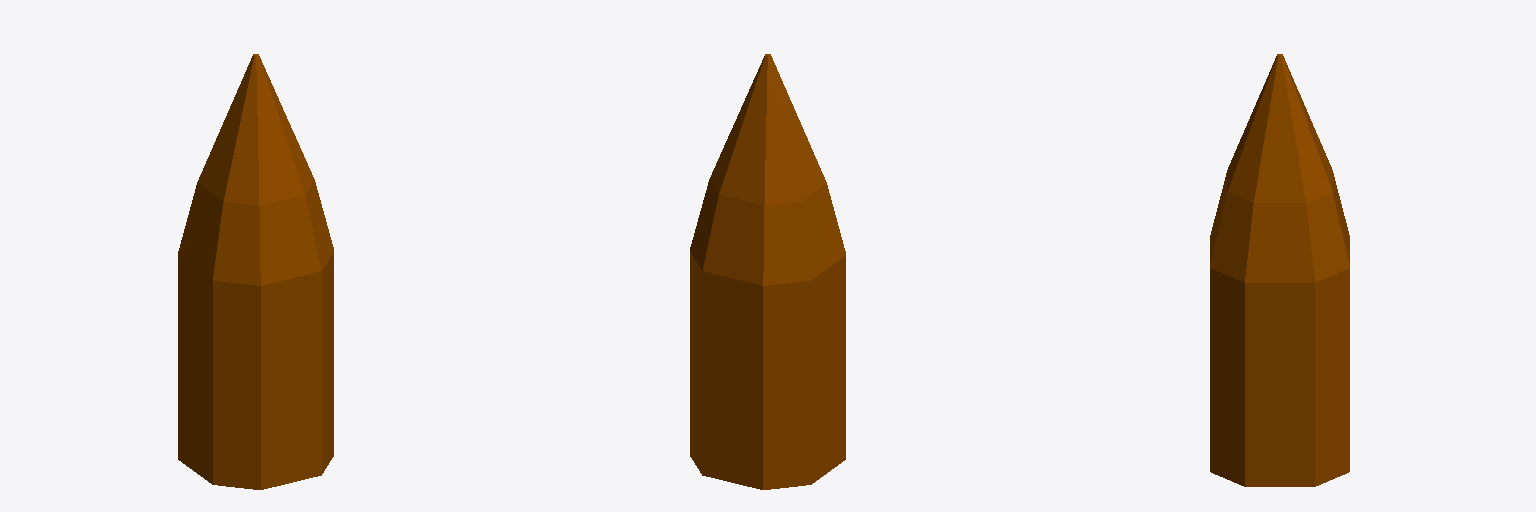
Rendered from Bullet_Rifle.obj.
3 renders of one model, left to right at view 1: azimuth 30°, elevation 25°; view 2: azimuth 150°, elevation 25°; view 3: azimuth 270°, elevation 25°, orthographic.
Parts seen in each view (by area): view 1: pPlane1; view 2: pPlane1; view 3: pPlane1.
Part boxes in pixels (x1,y1,x2,y2): pPlane1: (178,54,333,489); pPlane1: (690,54,845,489); pPlane1: (1210,54,1349,486).
Size of the model in its own units: 1 by 3.16 by 1.